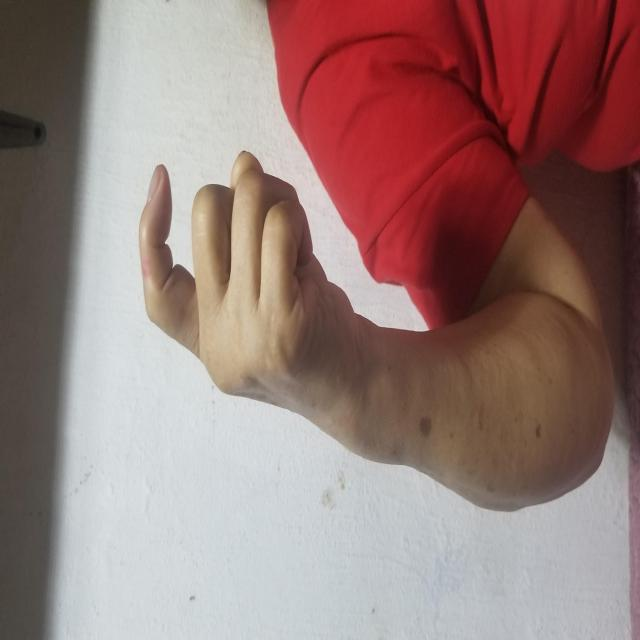X: (240, 137, 493, 336)
